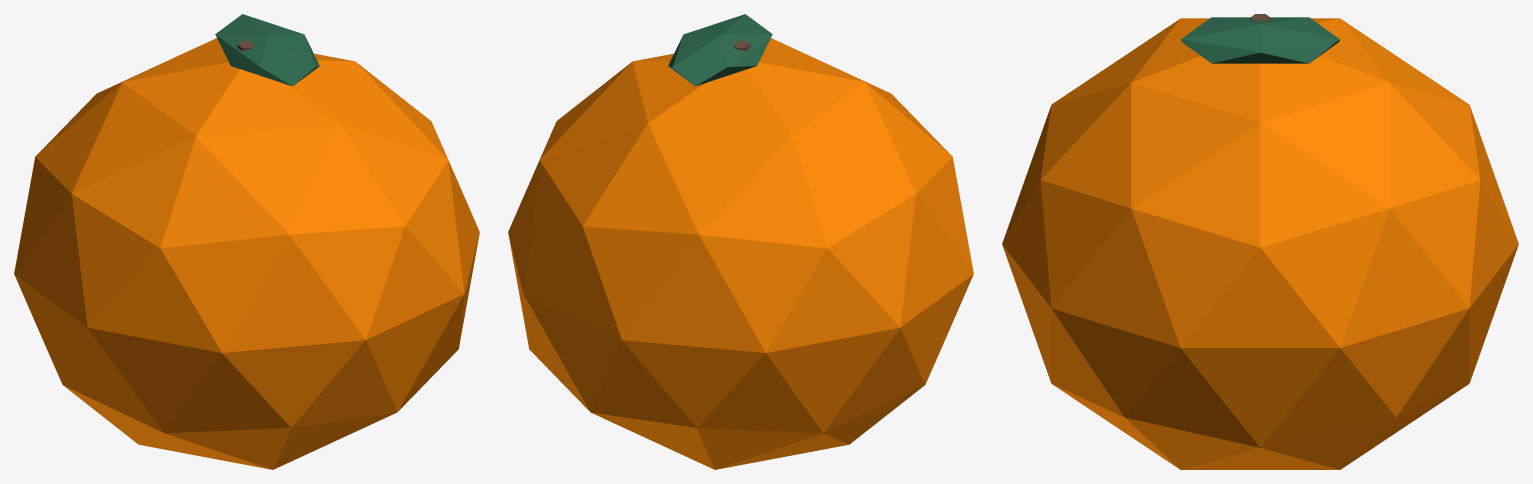
File: tangerine.glb
The picture shows the model from 3 angles, left to right: view 1: azimuth 30°, elevation 25°; view 2: azimuth 150°, elevation 25°; view 3: azimuth 270°, elevation 25°; orthographic projection. The views are drawn at different scales.
Parts seen in each view (by area): view 1: Icosphere, Icosphere.001; view 2: Icosphere, Icosphere.001; view 3: Icosphere, Icosphere.001.
Boxes of the visible parts, box(x1,y1,x2,y2) form: Icosphere: box(14, 38, 479, 469); Icosphere.001: box(215, 14, 319, 86); Icosphere: box(508, 38, 973, 469); Icosphere.001: box(668, 14, 772, 86); Icosphere: box(1002, 18, 1518, 469); Icosphere.001: box(1181, 17, 1339, 63).
Size of the model in its own units: 5.71 by 5.66 by 6.
